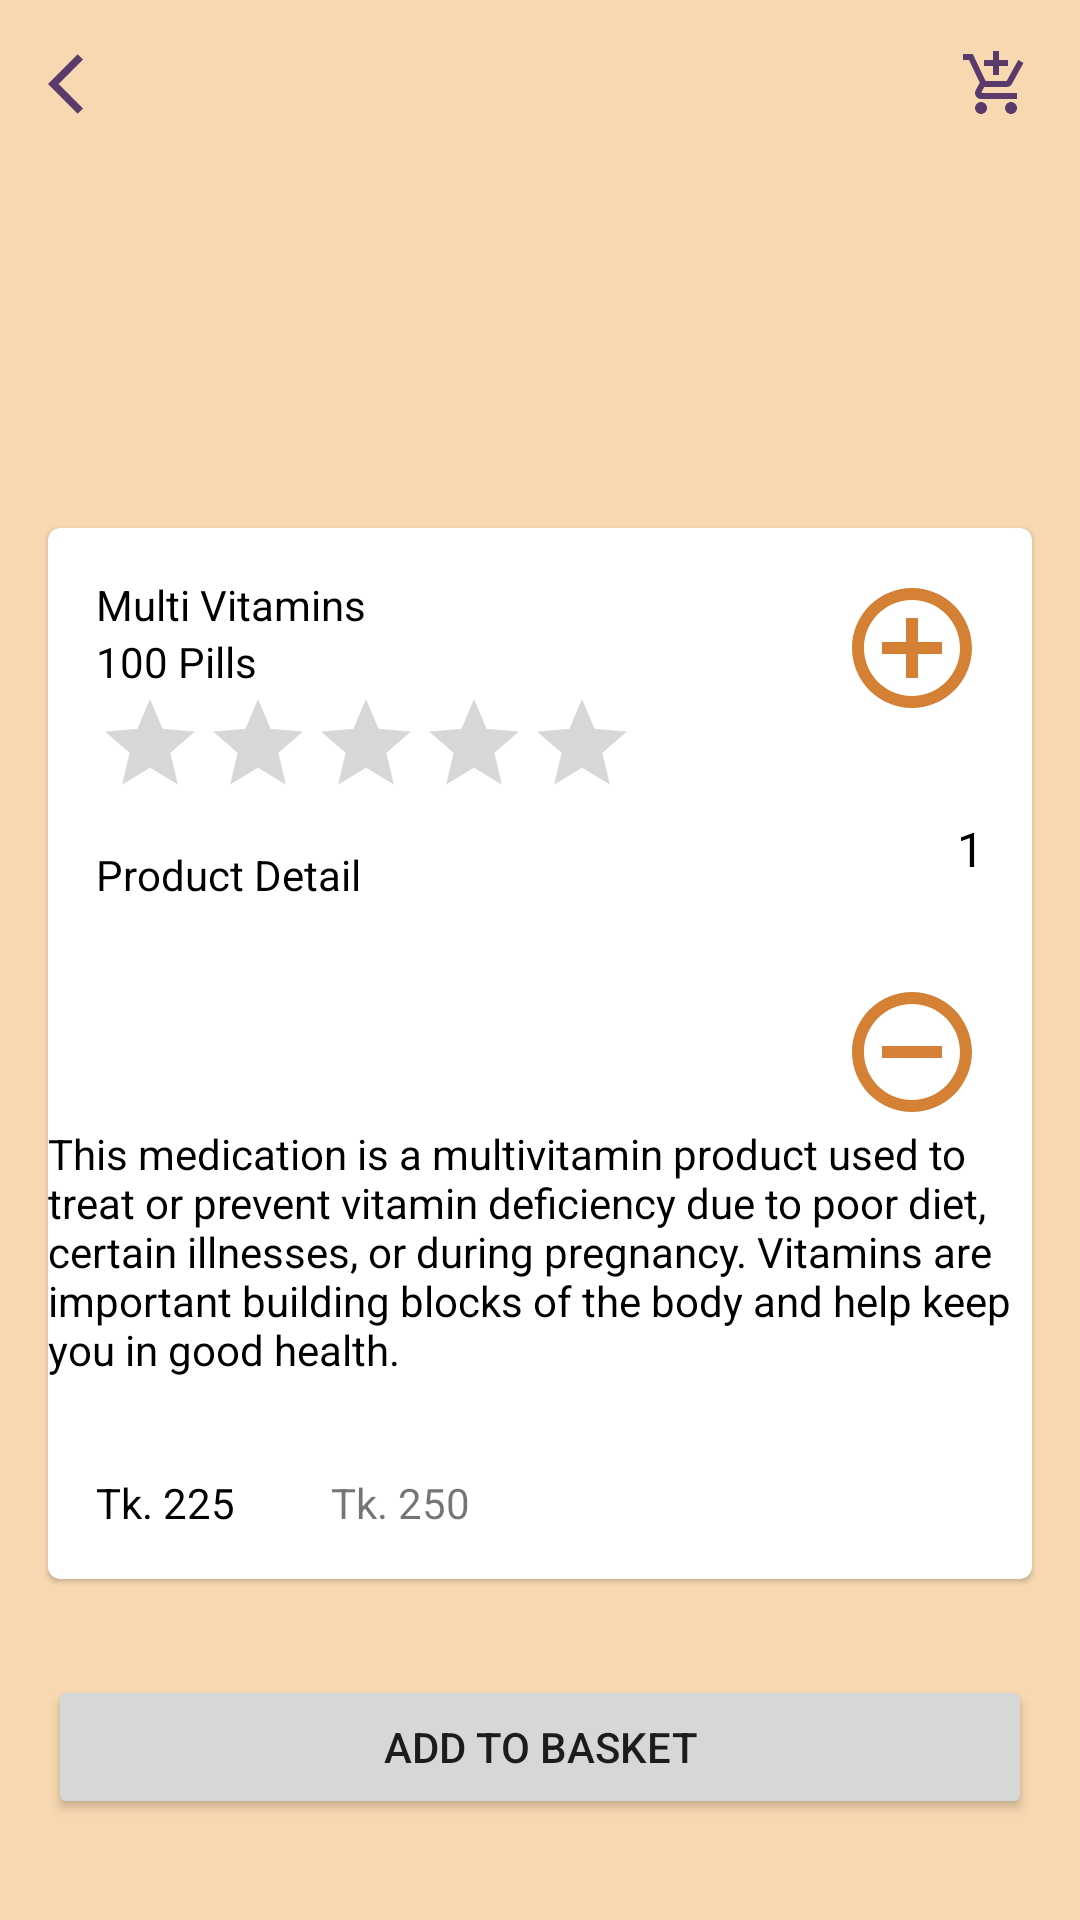

Icon click points for this 1080 x 1920 phone screenshot, format (x=x, y=y):
add circle: (x=912, y=648)
add shopping cart: (x=993, y=82)
arrow back: (x=65, y=84)
remove circle: (x=912, y=1052)
